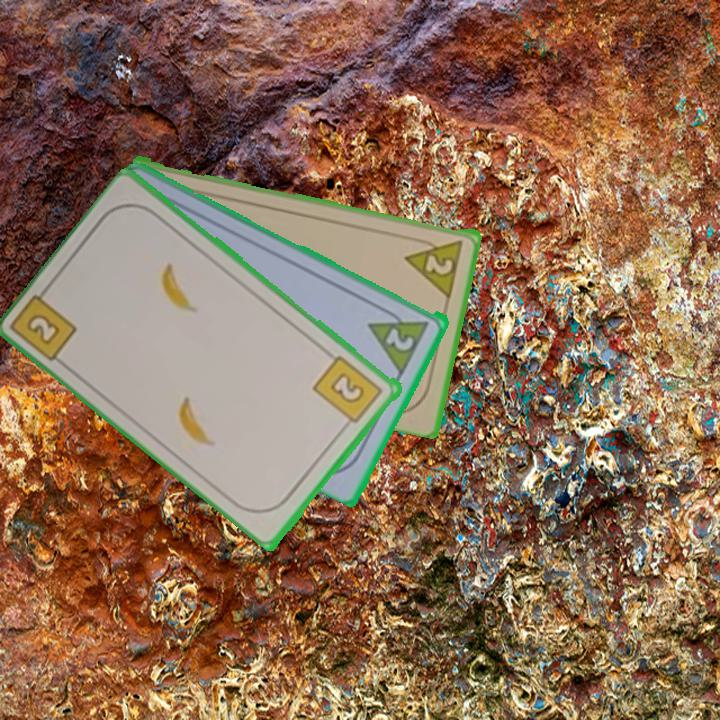2b: (310, 351, 386, 432), (10, 281, 81, 365)
2p: (365, 301, 433, 376), (402, 235, 466, 298)
